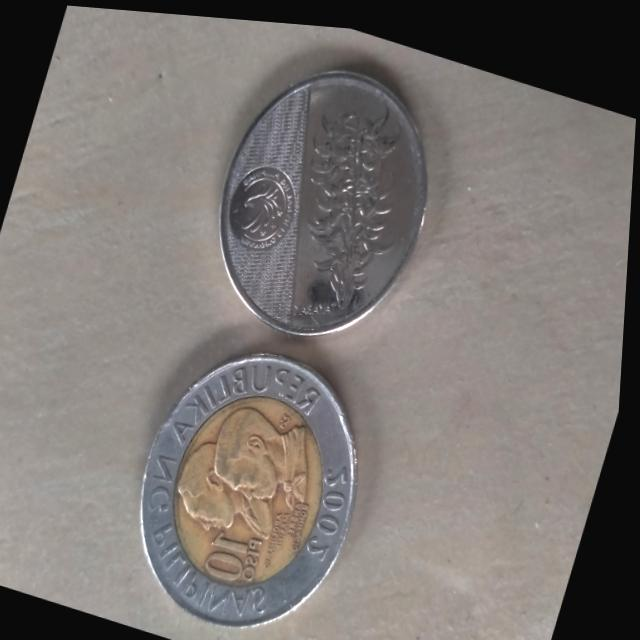10_Old_Front: (162, 382, 350, 612)
5_New_Back: (223, 63, 424, 331)
